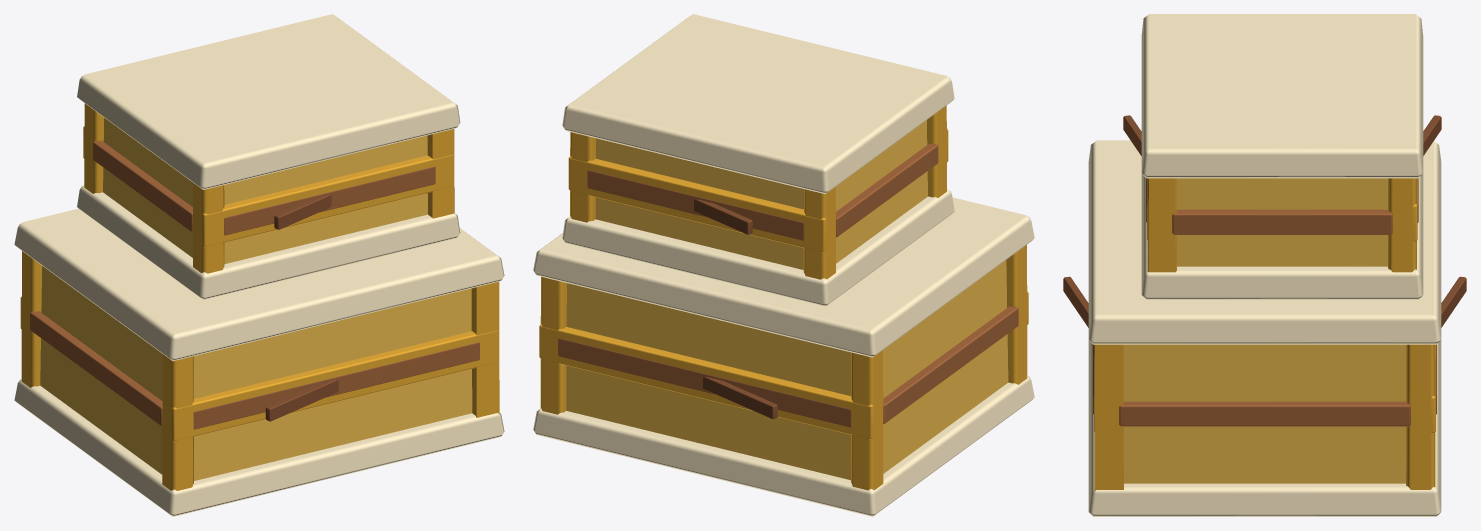
The model's file is a_platform_box.glb.
3 views of the same model, side by side, from view 1: azimuth 30°, elevation 25°; view 2: azimuth 150°, elevation 25°; view 3: azimuth 270°, elevation 25° (orthographic). The views are drawn at different scales.
Parts seen in each view (by area): view 1: a_platform_box; view 2: a_platform_box; view 3: a_platform_box.
Part boxes in pixels (<box>): a_platform_box: <box>14,14,504,516</box>; a_platform_box: <box>533,14,1034,516</box>; a_platform_box: <box>1063,14,1466,516</box>.
Size of the model in its own units: 1.97 by 1.8 by 1.85.
